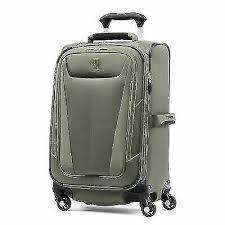suitcase: (47, 9, 178, 217)
